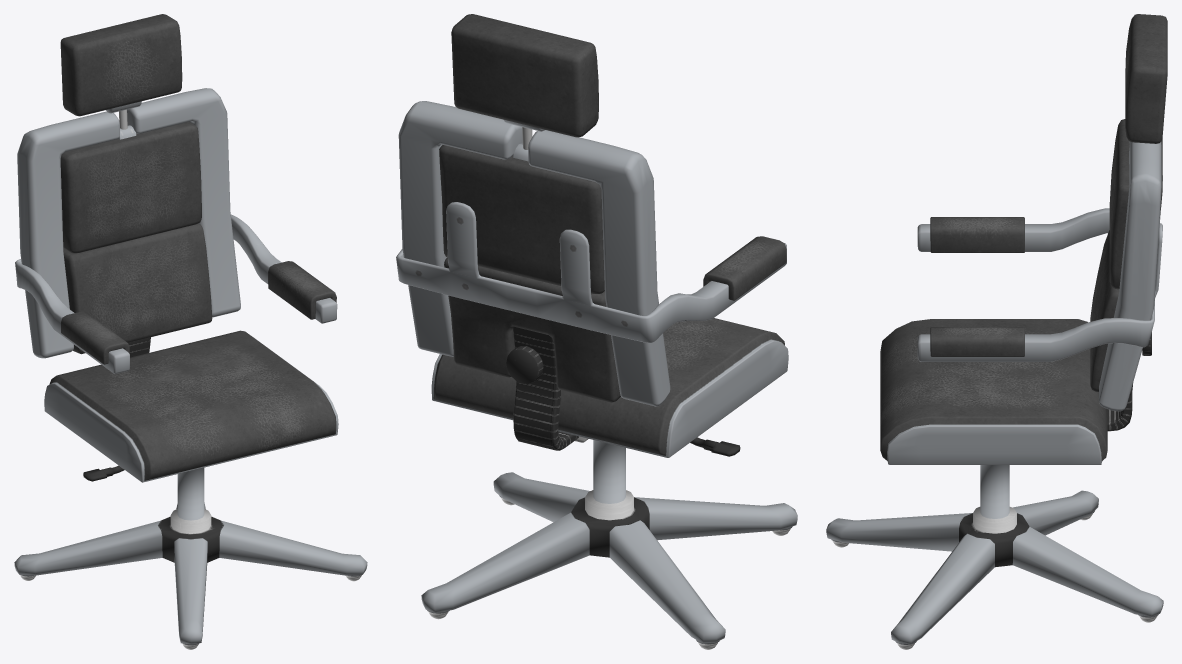
Rendered from silla.glb.
3 views of the same model, side by side, from view 1: azimuth 30°, elevation 25°; view 2: azimuth 150°, elevation 25°; view 3: azimuth 270°, elevation 25° (orthographic). The views are drawn at different scales.
Parts seen in each view (by area): view 1: Seat_low, SideBcak_low, Baselow_low, Cush01_low, Cush02_low, HeadRest_low, HandCush_low, HandRest_low; view 2: SideBcak_low, Baselow_low, Seat_low, Cush01_low, HeadRest_low, HandRest_low, Cush02_low, Spine_low, HandCush_low, Turn_low; view 3: Seat_low, Baselow_low, SideBcak_low, HandRest_low, HandCush_low, HeadRest_low, Cush01_low, Cush02_low, Spine_low.
Part boxes in pixels (x1,y1,x2,y2): Seat_low: (44,330,338,482); SideBcak_low: (17,88,240,358); Baselow_low: (14,467,367,644); Cush01_low: (60,121,201,253); Cush02_low: (63,223,212,354); HeadRest_low: (60,14,182,116); HandCush_low: (61,261,336,364); HandRest_low: (15,214,337,373); SideBcak_low: (398,101,670,406); Baselow_low: (421,440,797,643); Seat_low: (431,318,788,457); Cush01_low: (439,145,604,293); HeadRest_low: (451,14,598,137); HandRest_low: (396,202,786,342); Cush02_low: (444,257,620,402); Spine_low: (513,326,578,450); HandCush_low: (703,236,786,300); Turn_low: (506,346,543,383); Seat_low: (880,319,1107,464); Baselow_low: (826,465,1163,644); SideBcak_low: (1099,141,1161,411); HandRest_low: (917,175,1162,361); HandCush_low: (930,217,1024,356); HeadRest_low: (1125,14,1167,143); Cush01_low: (1109,119,1162,289); Cush02_low: (1090,230,1132,395); Spine_low: (1107,392,1132,431).
Size of the model in its own units: 7.99 by 14.22 by 8.09.
1 material, 1 textured.
